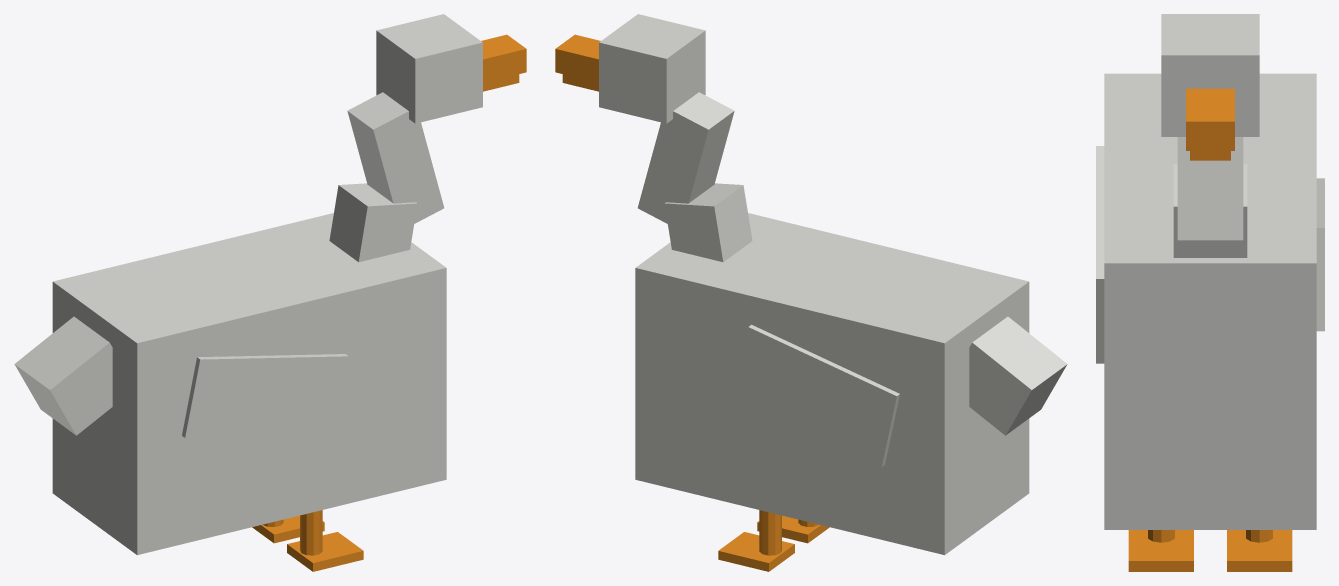
File: goose.obj
3 renders of one model, left to right at view 1: azimuth 30°, elevation 25°; view 2: azimuth 150°, elevation 25°; view 3: azimuth 270°, elevation 25°, orthographic. The views are drawn at different scales.
Visible parts, largest first — view 1: body, wing_left, head, tail, neck_upper, neck_lower, beak_top, foot_0.12, back, leg_0.12, foot_-0.12; view 2: body, wing_right, head, tail, neck_upper, neck_lower, beak_top, foot_-0.12, leg_-0.12, foot_0.12, back; view 3: body, head, neck_upper, beak_top, foot_-0.12, foot_0.12, neck_lower, wing_left, wing_right, beak_bottom, leg_-0.12, leg_0.12.
Boxes of the visible parts, x1,y1,x2,y2 form: body: (52, 213, 446, 555); wing_left: (182, 354, 348, 437); head: (376, 14, 482, 123); tail: (14, 316, 112, 435); neck_upper: (347, 92, 444, 223); neck_lower: (329, 183, 417, 262); beak_top: (481, 34, 526, 82); foot_0.12: (287, 532, 363, 571); back: (59, 307, 130, 456); leg_0.12: (300, 510, 322, 555); foot_-0.12: (252, 515, 324, 543); body: (635, 213, 1029, 555); wing_right: (733, 324, 899, 467); head: (599, 14, 705, 123); tail: (969, 316, 1067, 435); neck_upper: (637, 92, 734, 223); neck_lower: (664, 183, 752, 262); beak_top: (555, 34, 600, 82); foot_-0.12: (718, 532, 794, 571); leg_-0.12: (759, 510, 781, 555); foot_0.12: (757, 515, 829, 543); back: (951, 315, 1020, 455); body: (1104, 73, 1316, 529); head: (1161, 14, 1259, 136); neck_upper: (1177, 137, 1243, 240); beak_top: (1186, 88, 1234, 150); foot_-0.12: (1227, 530, 1292, 571); foot_0.12: (1128, 530, 1193, 571); neck_lower: (1173, 164, 1247, 257); wing_left: (1096, 146, 1104, 363); wing_right: (1316, 178, 1324, 331); beak_bottom: (1190, 151, 1230, 160); leg_-0.12: (1246, 530, 1272, 542); leg_0.12: (1148, 530, 1174, 542).
Size of the model in its own units: 1.72 by 1.61 by 0.56.
